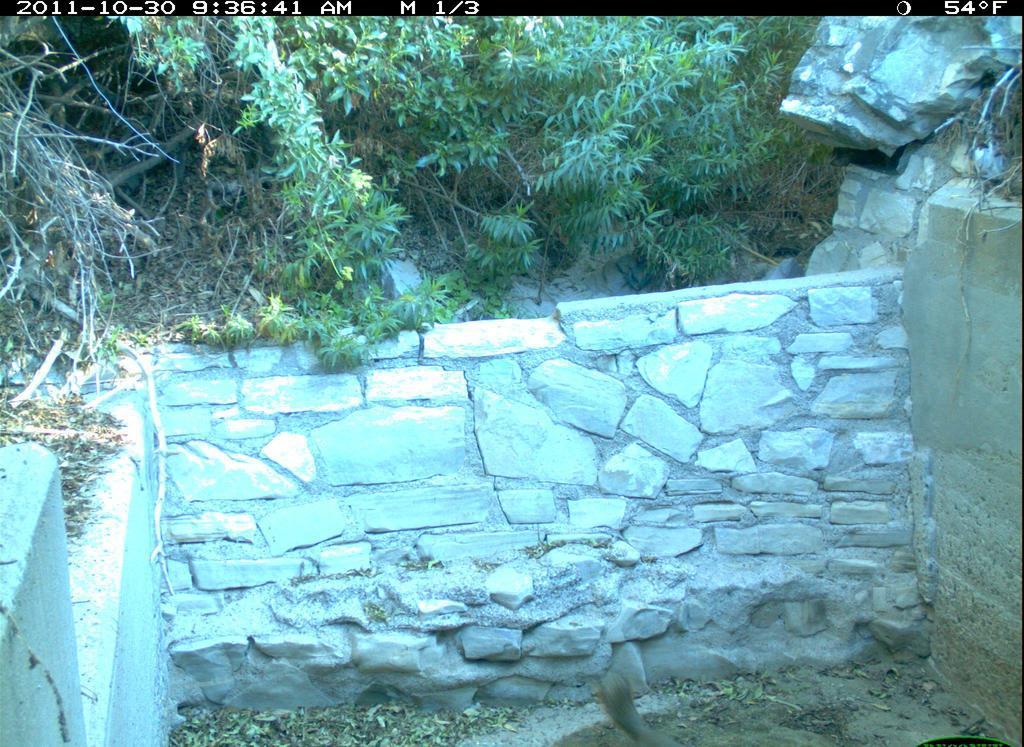squirrel: (592, 660, 701, 747)
